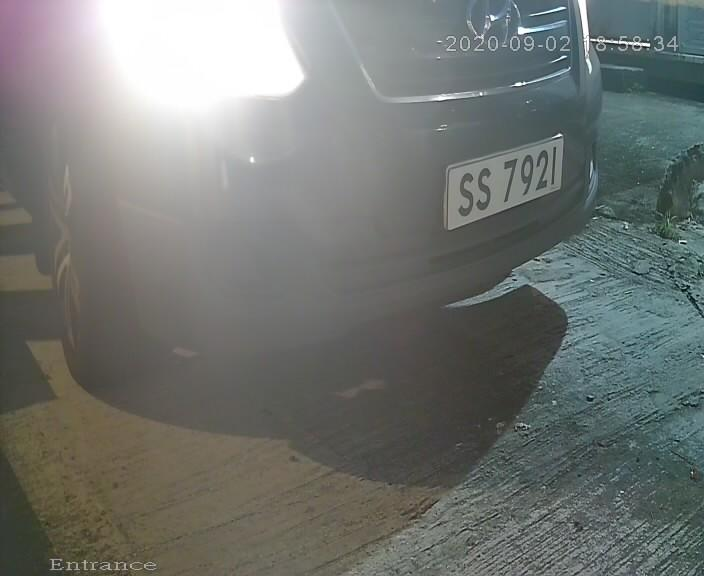License Plate: (434, 129, 560, 235)
